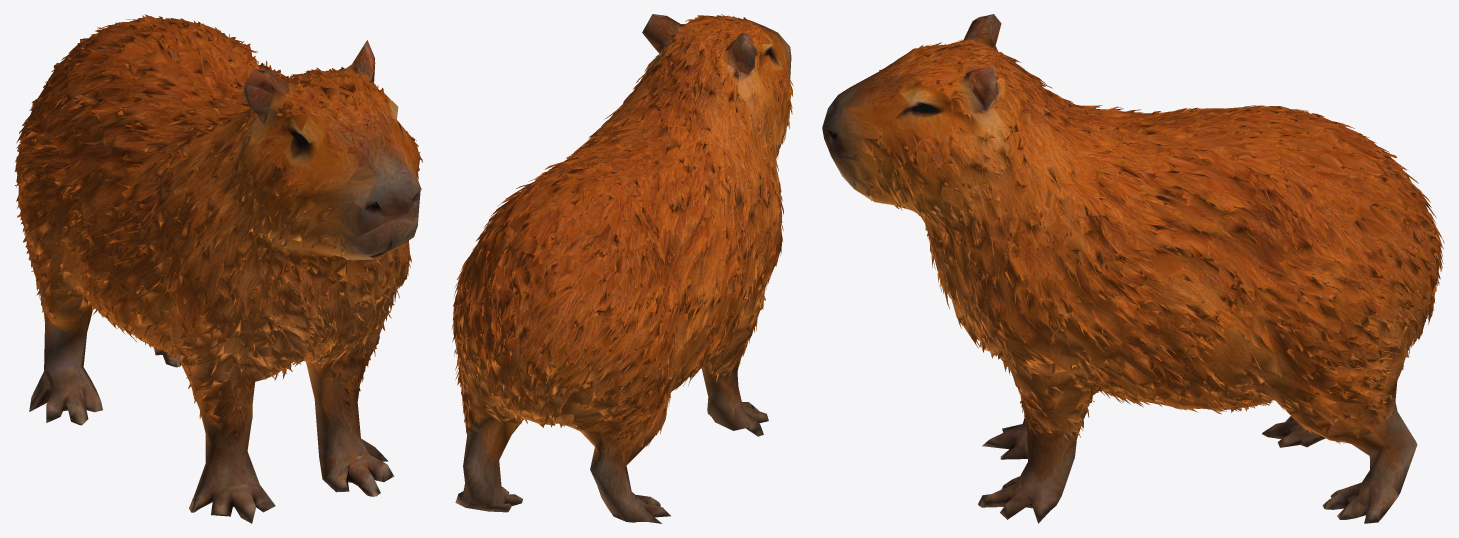
The model's file is capybara.glb.
3 views of the same model, side by side, from view 1: azimuth 30°, elevation 25°; view 2: azimuth 150°, elevation 25°; view 3: azimuth 270°, elevation 25° (orthographic). The views are drawn at different scales.
Bounding box in the file's own units: 0.4748 × 0.8184 × 1.05.
1 material, 1 textured.
